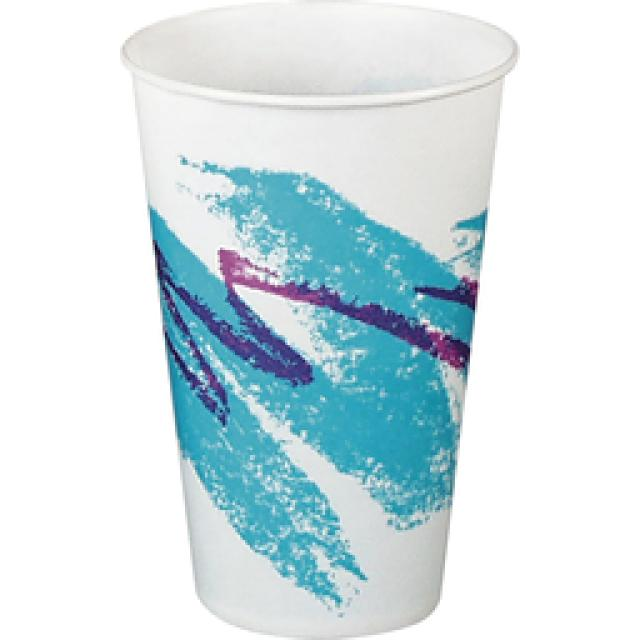paper_cups: (123, 0, 522, 640)
